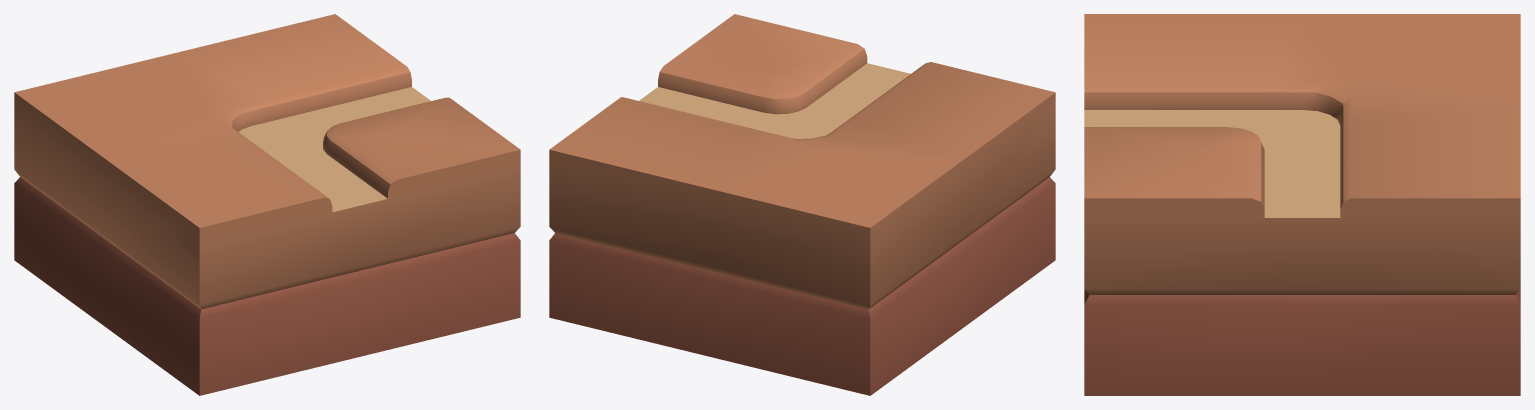
File: kaykit-square-rock-roadc-detail.glb
3 views of the same model, side by side, from view 1: azimuth 30°, elevation 25°; view 2: azimuth 150°, elevation 25°; view 3: azimuth 270°, elevation 25° (orthographic). The views are drawn at different scales.
Parts seen in each view (by area): view 1: square_rock_roadC_detail; view 2: square_rock_roadC_detail; view 3: square_rock_roadC_detail.
Part boxes in pixels (box(x1,y1,x2,y2)): square_rock_roadC_detail: box(14, 14, 520, 395); square_rock_roadC_detail: box(549, 14, 1055, 395); square_rock_roadC_detail: box(1084, 14, 1520, 395).
Bounding box in the file's own units: 2 × 0.9998 × 2.
